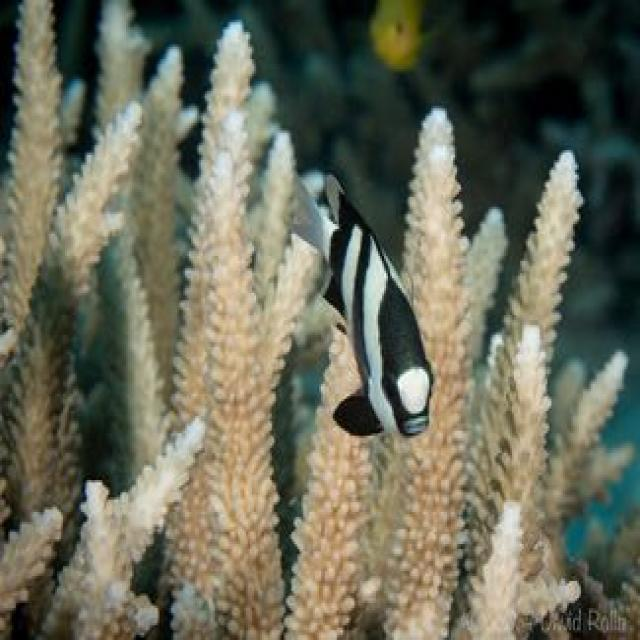Three_striped DasmselFish: (313, 184, 437, 443)
